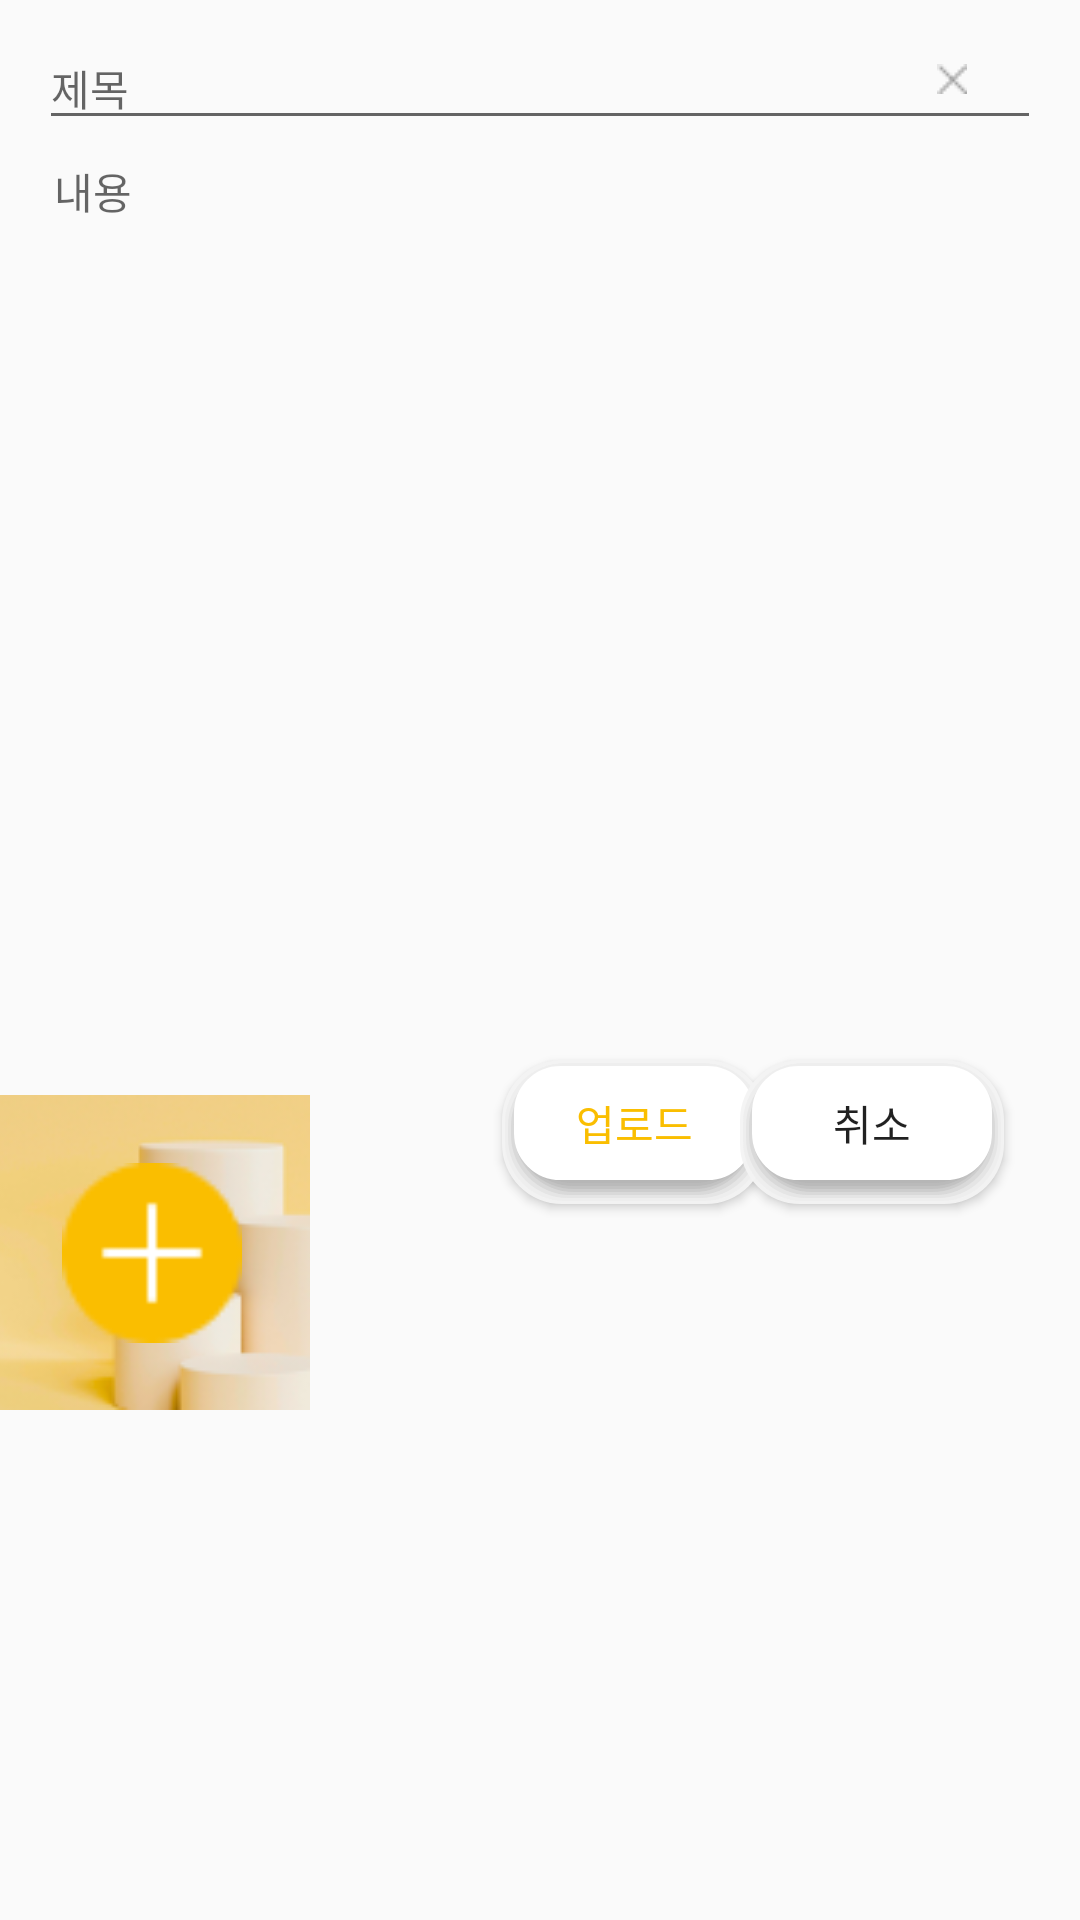

Icon bounding boxes for this 1080 × 1920 phone screenshot, format (x1, y1, x2, y2):
add photo: (0, 1095, 310, 1410)
cross: (937, 64, 967, 94)
